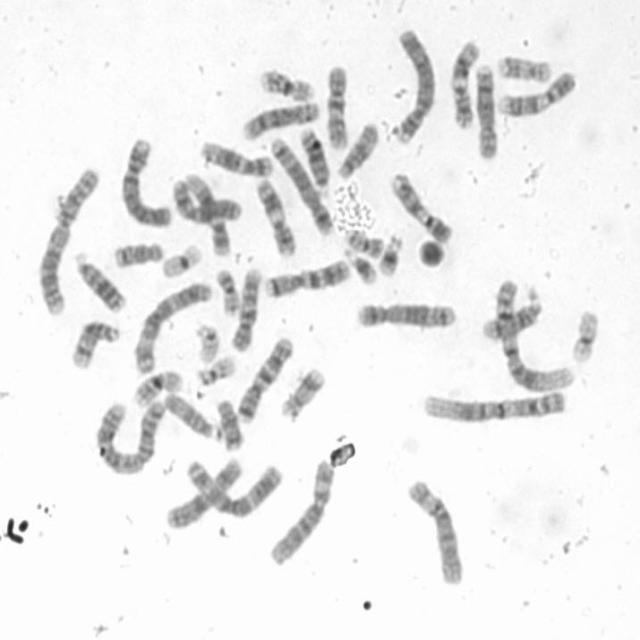A1: (492, 274, 576, 394), (418, 386, 568, 425)
A2: (34, 161, 100, 316), (92, 393, 166, 476)
A3: (131, 276, 214, 375), (184, 455, 285, 518)
B4: (389, 24, 437, 144), (117, 133, 175, 228)
B5: (266, 132, 336, 237), (353, 299, 457, 332)
C10: (228, 263, 266, 353), (321, 59, 351, 151)
C11: (254, 174, 299, 257), (447, 37, 482, 130)
C12: (179, 167, 234, 258), (198, 136, 275, 179)
C6: (265, 456, 337, 569), (404, 474, 464, 587)
C7: (233, 334, 296, 425), (263, 256, 352, 300)
C8: (238, 96, 321, 142), (472, 59, 498, 160)
C9: (386, 168, 456, 244), (495, 67, 579, 119)
D13: (72, 247, 128, 314), (296, 125, 331, 190)
D14: (480, 285, 543, 342), (67, 316, 122, 370)
D15: (160, 390, 224, 442), (334, 118, 380, 181)
E16: (128, 366, 183, 409), (256, 64, 315, 103)
E17: (278, 362, 328, 421), (495, 51, 554, 84)
E18: (213, 394, 246, 452), (110, 236, 165, 269)
F19: (568, 306, 600, 364), (158, 240, 204, 280)
F20: (212, 264, 243, 316), (341, 225, 386, 259)
G21: (339, 243, 379, 287), (375, 231, 403, 279)
G22: (194, 351, 237, 387), (192, 318, 221, 367)
X: (162, 454, 244, 532), (170, 179, 240, 227)
